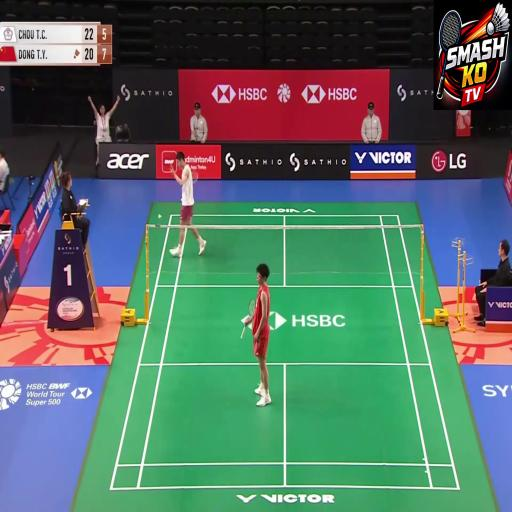player: (234, 234, 282, 426), (163, 132, 208, 278)
